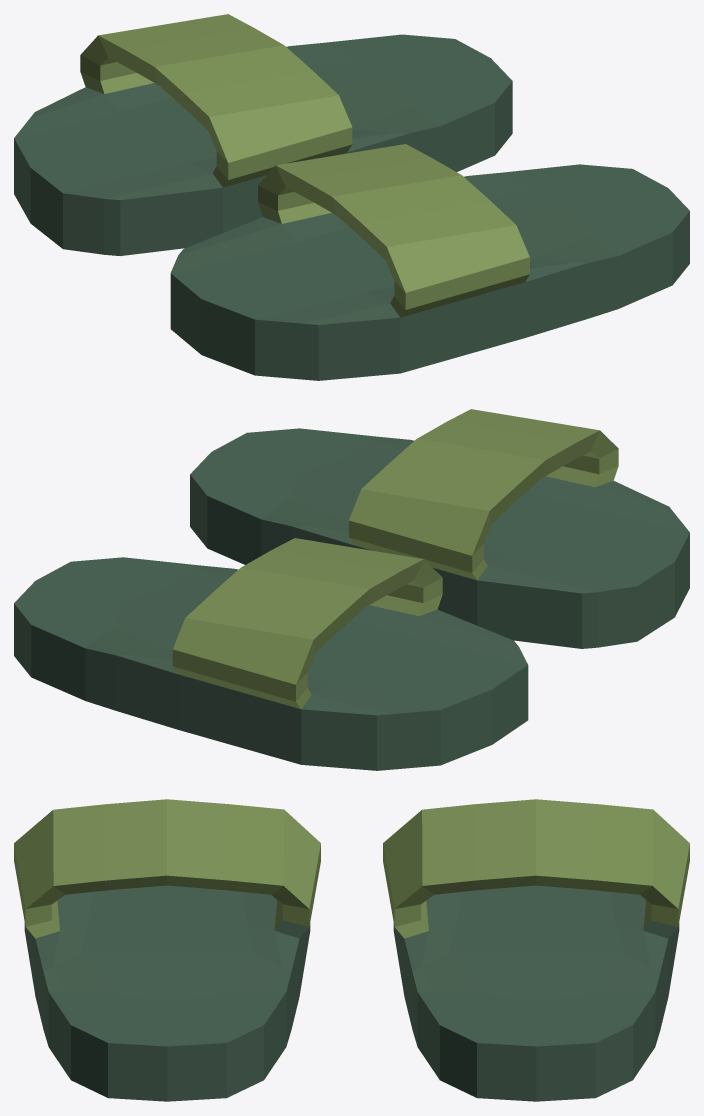
Rendered from slipper_3_partyassets.fbx.
3 renders of one model, top to bottom at view 1: azimuth 30°, elevation 25°; view 2: azimuth 150°, elevation 25°; view 3: azimuth 270°, elevation 25°, orthographic. The views are drawn at different scales.
Parts seen in each view (by area): view 1: slipper_3_partyassets, Cube.052; view 2: slipper_3_partyassets, Cube.052; view 3: slipper_3_partyassets, Cube.052.
Boxes of the visible parts, <box> form: slipper_3_partyassets: <box>14,34,689,380</box>; Cube.052: <box>80,14,529,317</box>; slipper_3_partyassets: <box>14,428,689,770</box>; Cube.052: <box>172,409,618,708</box>; slipper_3_partyassets: <box>24,885,679,1101</box>; Cube.052: <box>14,799,689,938</box>.
Size of the model in its own units: 23.74 by 6.15 by 28.64.
